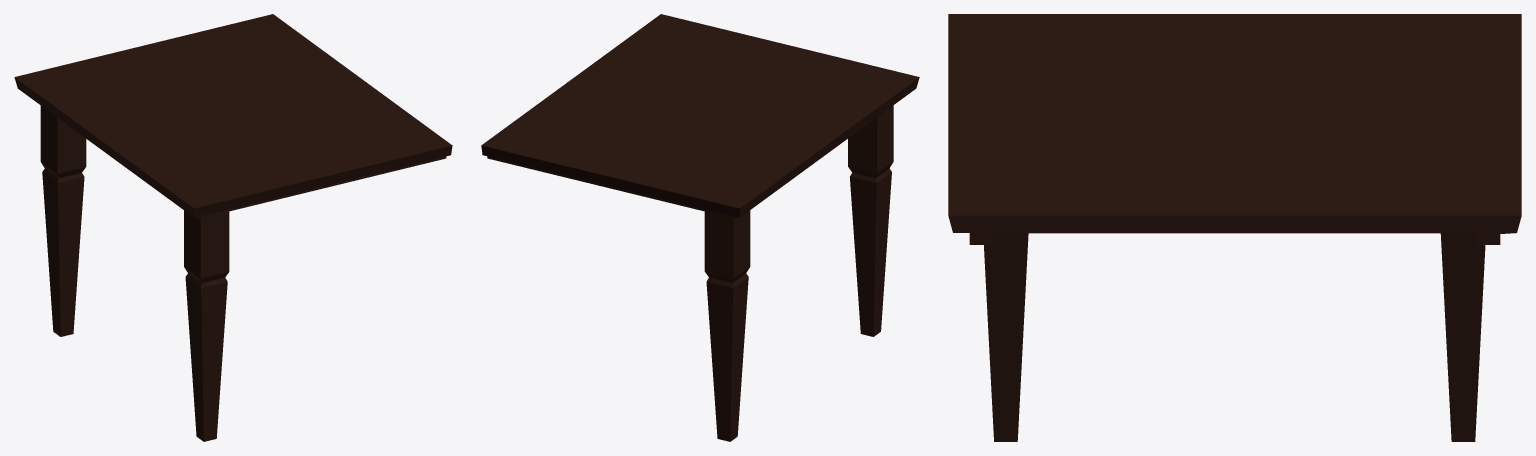
The model's file is TableLeft.fbx.
3 views of the same model, side by side, from view 1: azimuth 30°, elevation 25°; view 2: azimuth 150°, elevation 25°; view 3: azimuth 270°, elevation 25° (orthographic). The views are drawn at different scales.
Visible parts, largest first — view 1: Куб.001; view 2: Куб.001; view 3: Куб.001.
Boxes of the visible parts, box(x1,y1,x2,y2) form: Куб.001: box(14, 14, 452, 441); Куб.001: box(481, 14, 919, 441); Куб.001: box(948, 14, 1521, 441).
Size of the model in its own units: 502 by 461 by 600.
